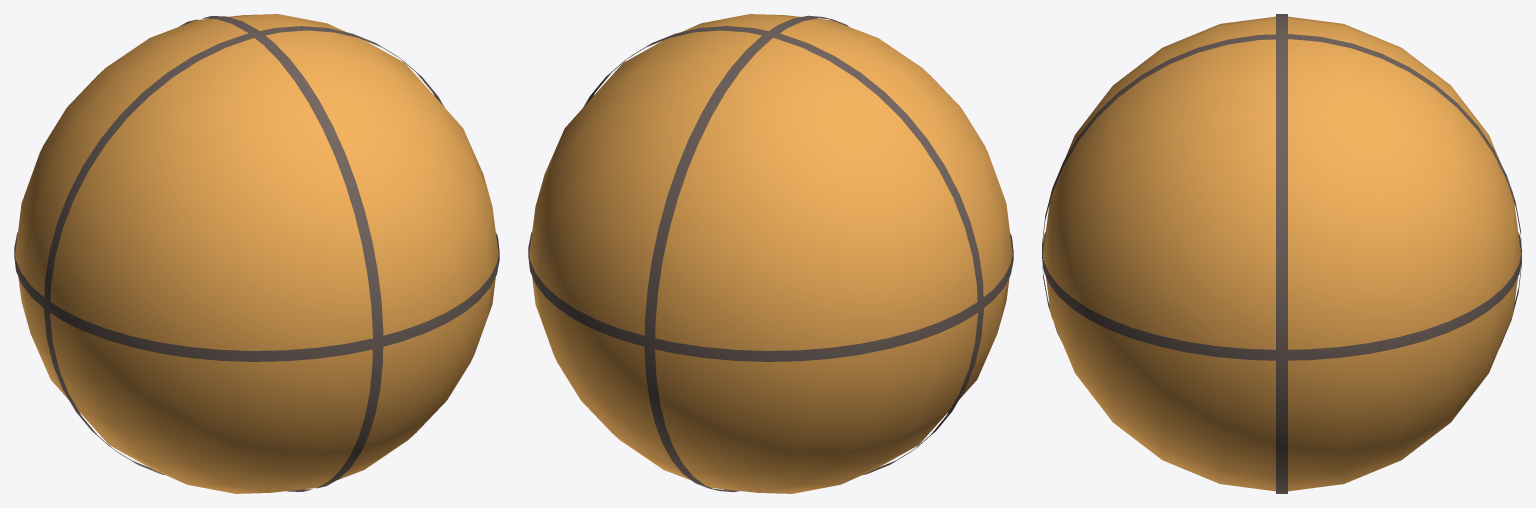
File: mic.glb
The picture shows the model from 3 angles, left to right: view 1: azimuth 30°, elevation 25°; view 2: azimuth 150°, elevation 25°; view 3: azimuth 270°, elevation 25°; orthographic projection.
Size of the model in its own units: 0.2409 by 0.2407 by 0.2409.
